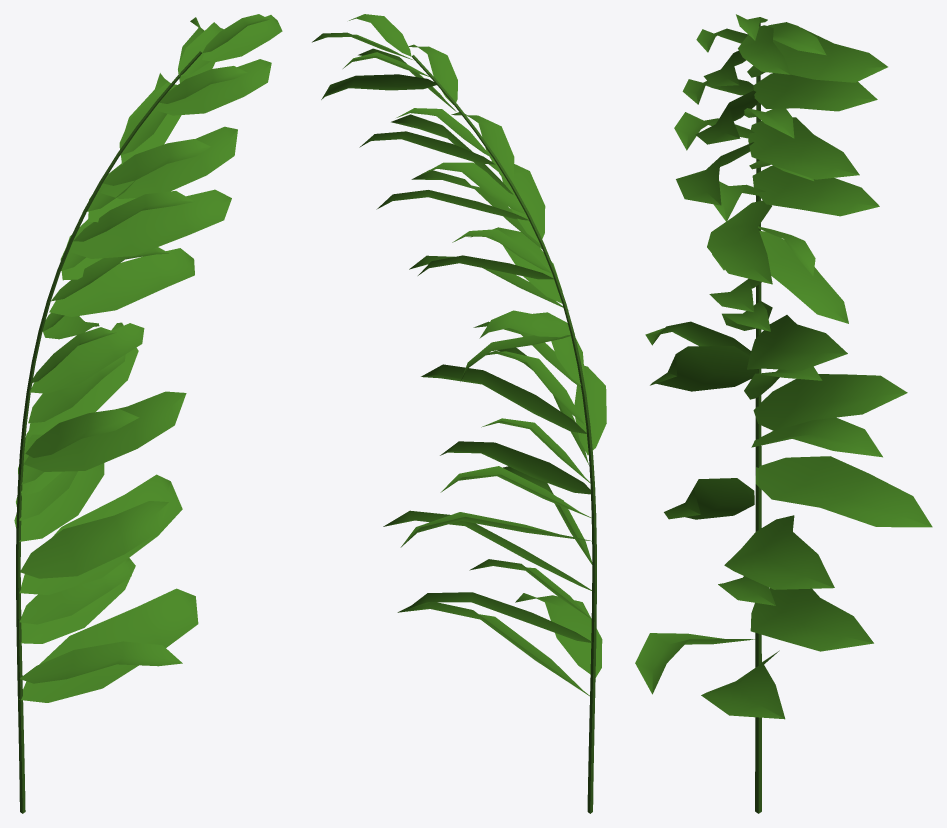
The model's file is Reeds.fbx.
The picture shows the model from 3 angles, left to right: view 1: azimuth 30°, elevation 25°; view 2: azimuth 150°, elevation 25°; view 3: azimuth 270°, elevation 25°; orthographic projection. The views are drawn at different scales.
Parts seen in each view (by area): view 1: Reeds; view 2: Reeds; view 3: Reeds.
Part boxes in pixels (left/top/right/bottom): Reeds: left=14, top=14, right=282, bottom=813; Reeds: left=312, top=14, right=606, bottom=813; Reeds: left=635, top=14, right=932, bottom=813.
Bounding box in the file's own units: 16.21 × 42 × 12.18.
